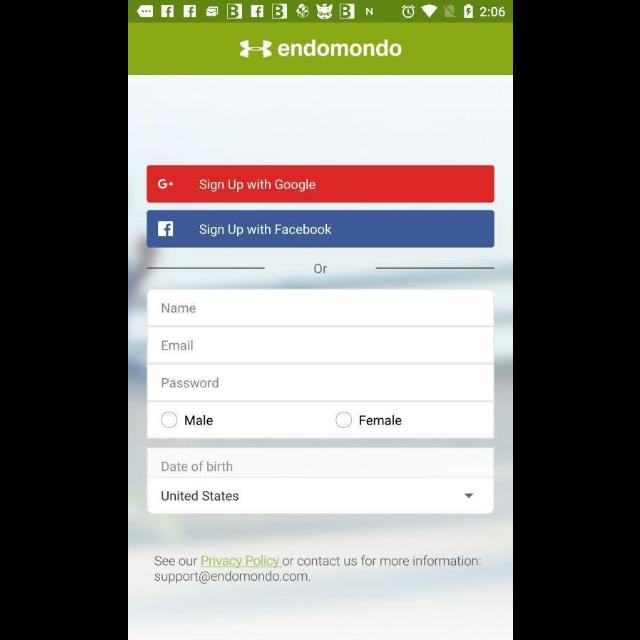checkbox: (336, 412, 350, 428), (162, 412, 176, 428)
image: (238, 40, 402, 59)
input: (146, 363, 492, 402), (146, 290, 492, 328), (146, 326, 492, 362), (147, 448, 493, 477)
text: (155, 554, 481, 584), (160, 491, 238, 501), (162, 461, 232, 472), (162, 378, 218, 388), (360, 416, 402, 426), (162, 304, 196, 314), (185, 414, 212, 426), (162, 341, 192, 351), (314, 264, 326, 274)
textbutton: (146, 165, 494, 203), (146, 210, 494, 248), (147, 478, 493, 514)
uppertaskbar: (128, 1, 512, 23)
